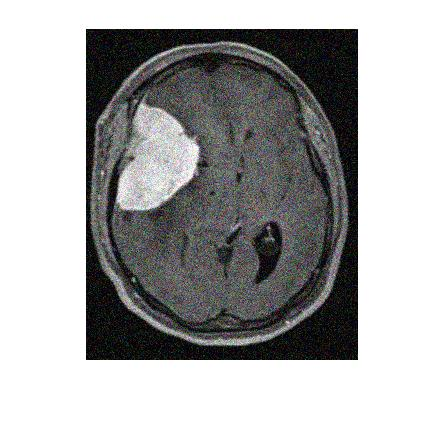Brain_Cancer: (106, 102, 202, 212)
